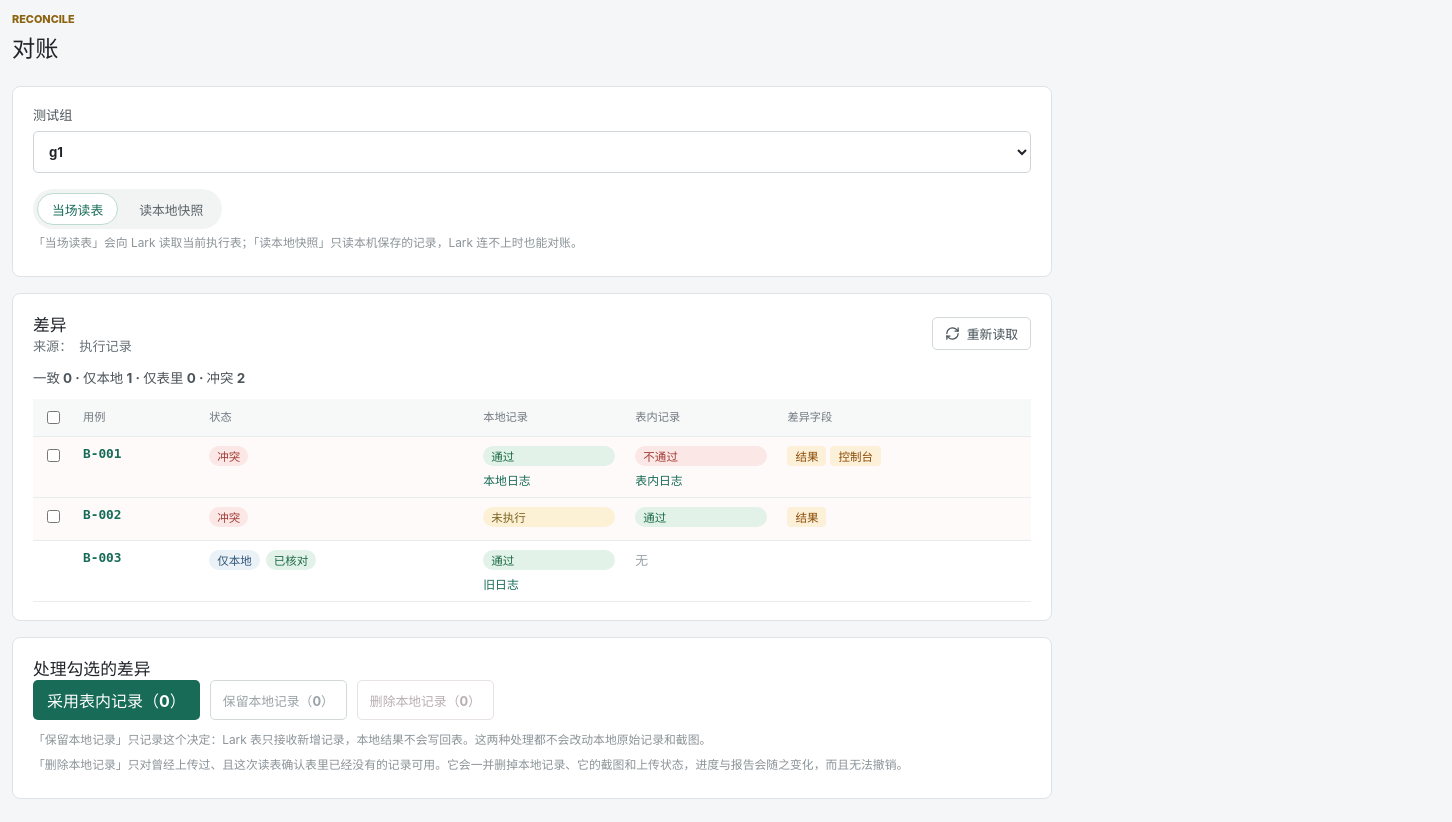
Scenario: reads local snapshots without asking for a live table read
Expected: the text "执行记录" is shown, [79,336,132,355]
Click the button "读本地快照": (171, 209) [124,193,218,225]
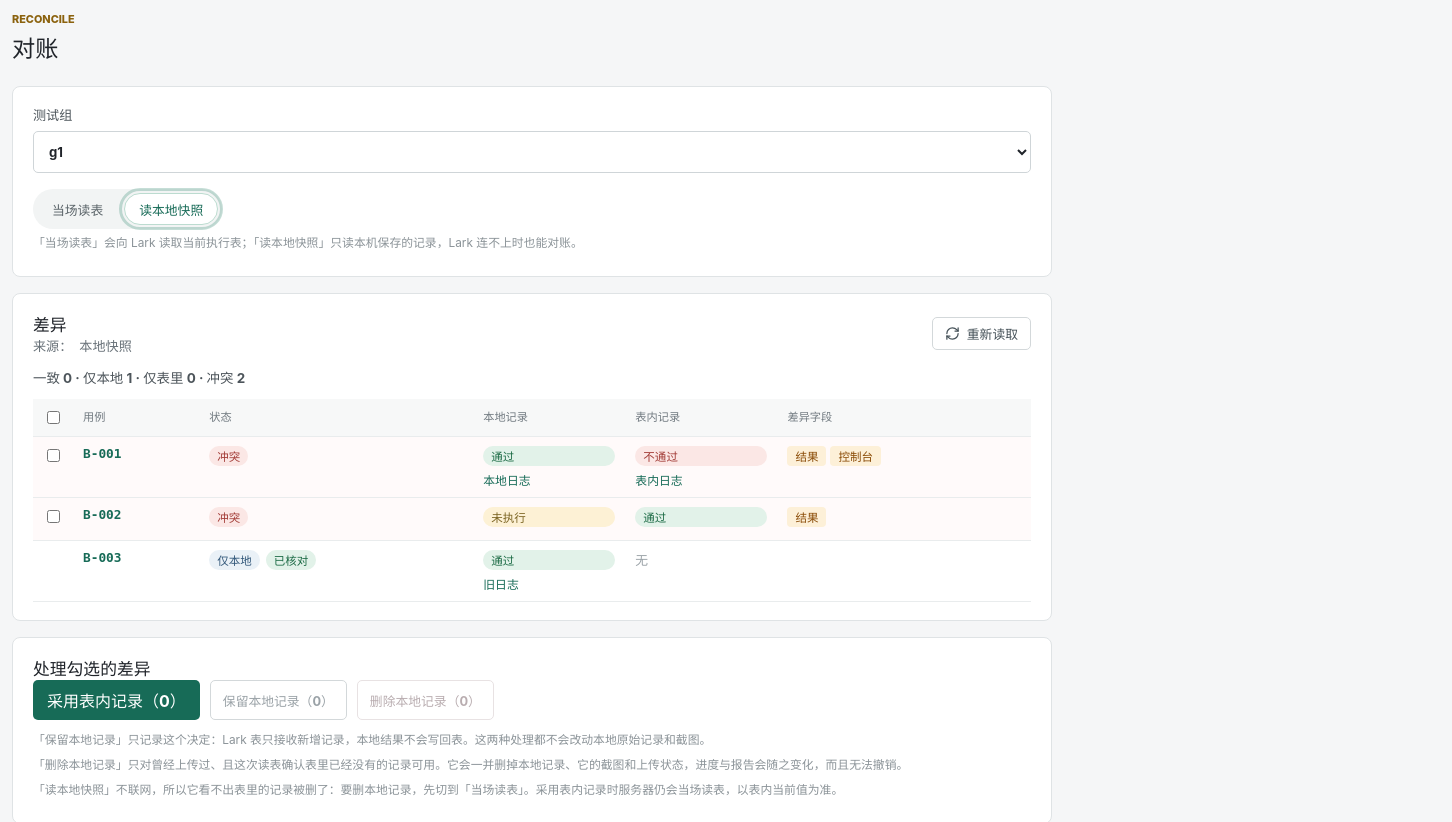
Result: the text "本地快照" is shown at [79,336,132,355]
